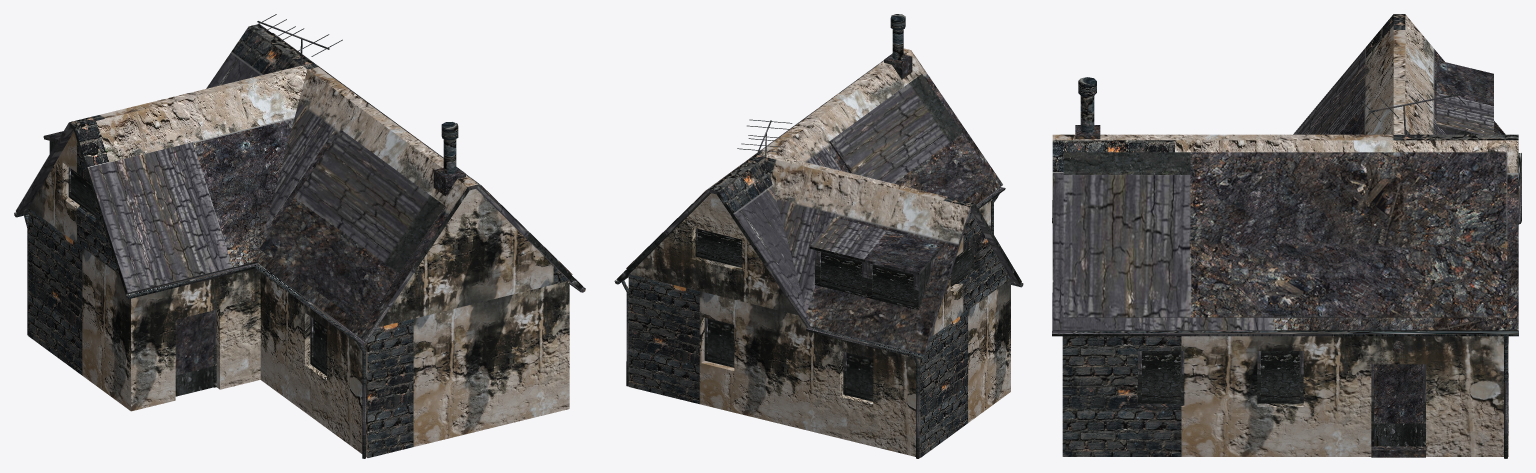
File: haus2.fbx
3 renders of one model, left to right at view 1: azimuth 30°, elevation 25°; view 2: azimuth 150°, elevation 25°; view 3: azimuth 270°, elevation 25°, orthographic. The views are drawn at different scales.
Visible parts, largest first — view 1: haus2_LOD0; view 2: haus2_LOD0; view 3: haus2_LOD0.
Part boxes in pixels (x1,y1,x2,y2): haus2_LOD0: [14, 14, 585, 458]; haus2_LOD0: [614, 14, 1023, 458]; haus2_LOD0: [1052, 14, 1521, 458].
Size of what is drawn, in the model's own units: 18.99 by 15.59 by 20.73.
